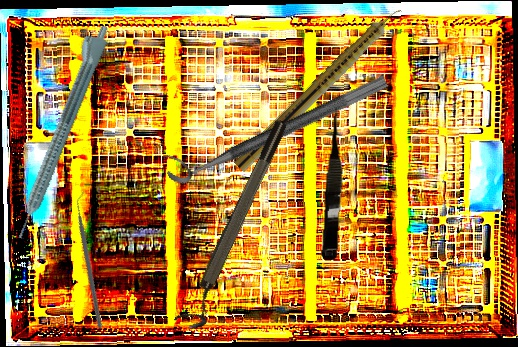Chopper: (24, 190, 160, 330)
Fixation Ring: (159, 57, 390, 189), (173, 116, 301, 335)
Handpiece: (233, 2, 407, 176), (2, 19, 114, 242)
Micro Scissor: (320, 105, 350, 261)
